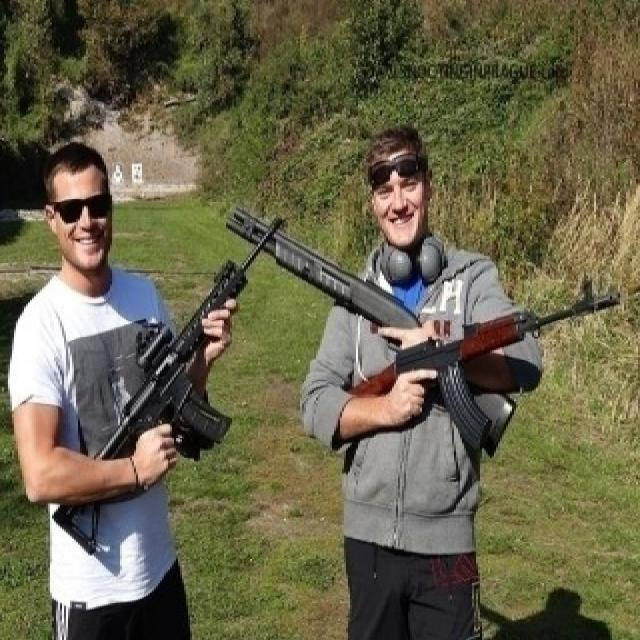weapon: (44, 208, 294, 556), (328, 277, 622, 468), (212, 196, 444, 348)
